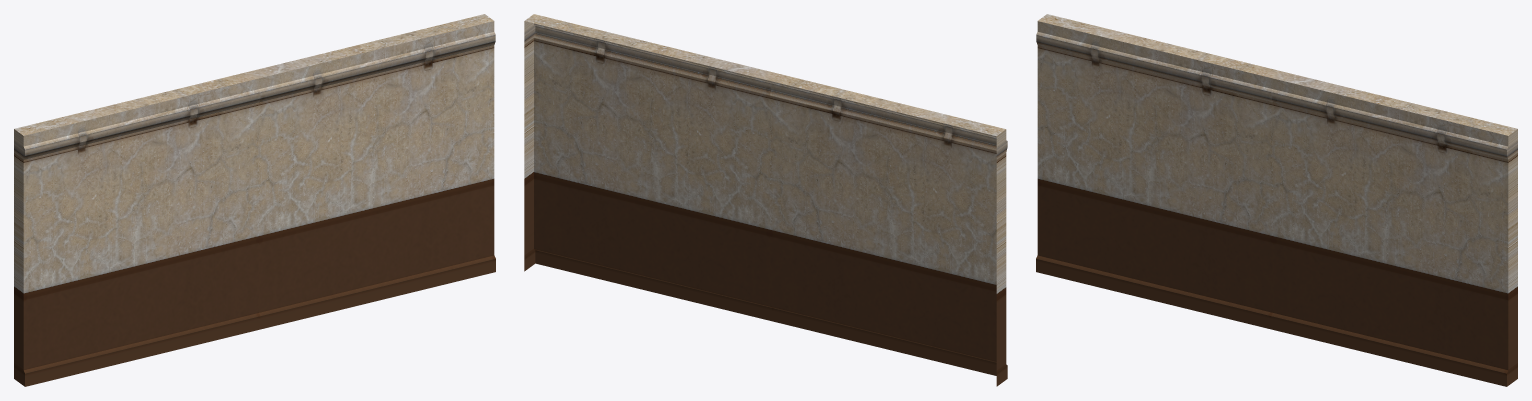
Rendered from Wall_Serv_Long.fbx.
3 views of the same model, side by side, from view 1: azimuth 30°, elevation 25°; view 2: azimuth 150°, elevation 25°; view 3: azimuth 330°, elevation 25° (orthographic).
Visible parts, largest first — view 1: Plane.010; view 2: Plane.010; view 3: Plane.010.
Part boxes in pixels (left/top/right/bottom): Plane.010: left=14, top=14, right=495, bottom=386; Plane.010: left=524, top=14, right=1007, bottom=386; Plane.010: left=1036, top=14, right=1517, bottom=386.
Size of the model in its own units: 731 by 371 by 29.86.
